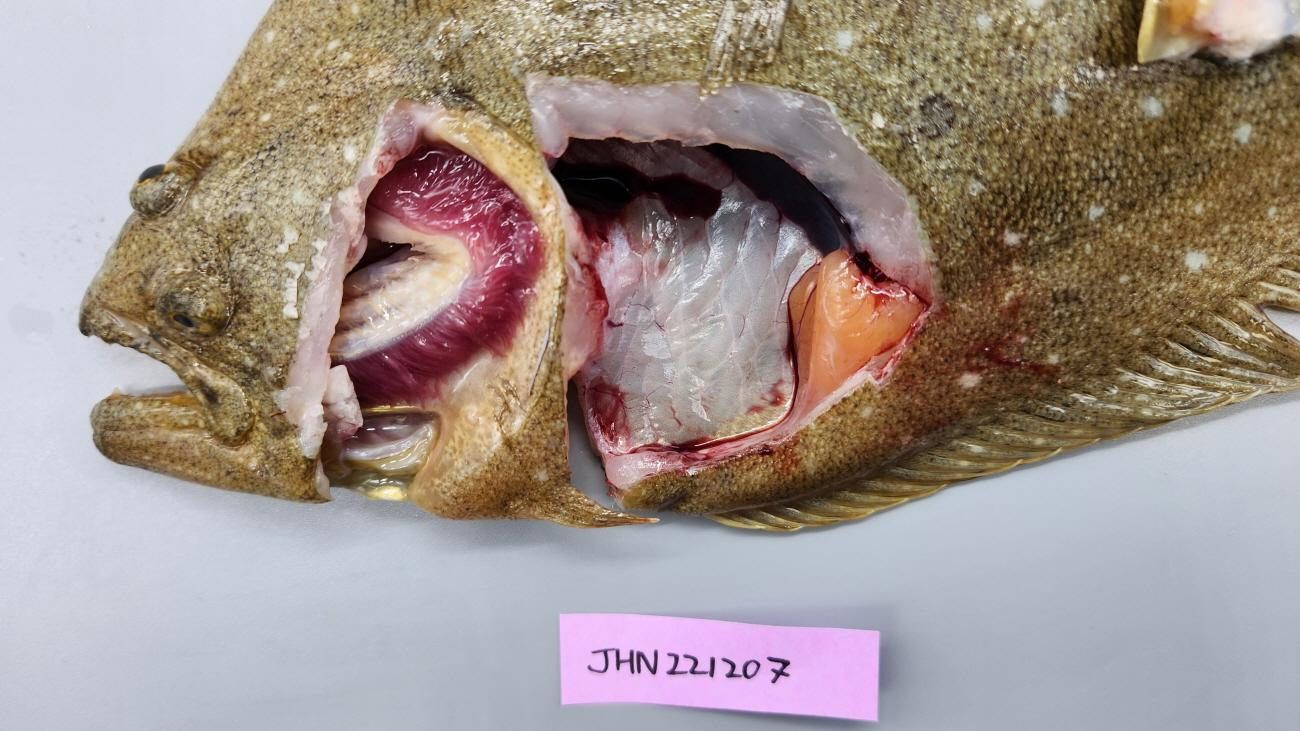POASN: (548, 137, 823, 455)
